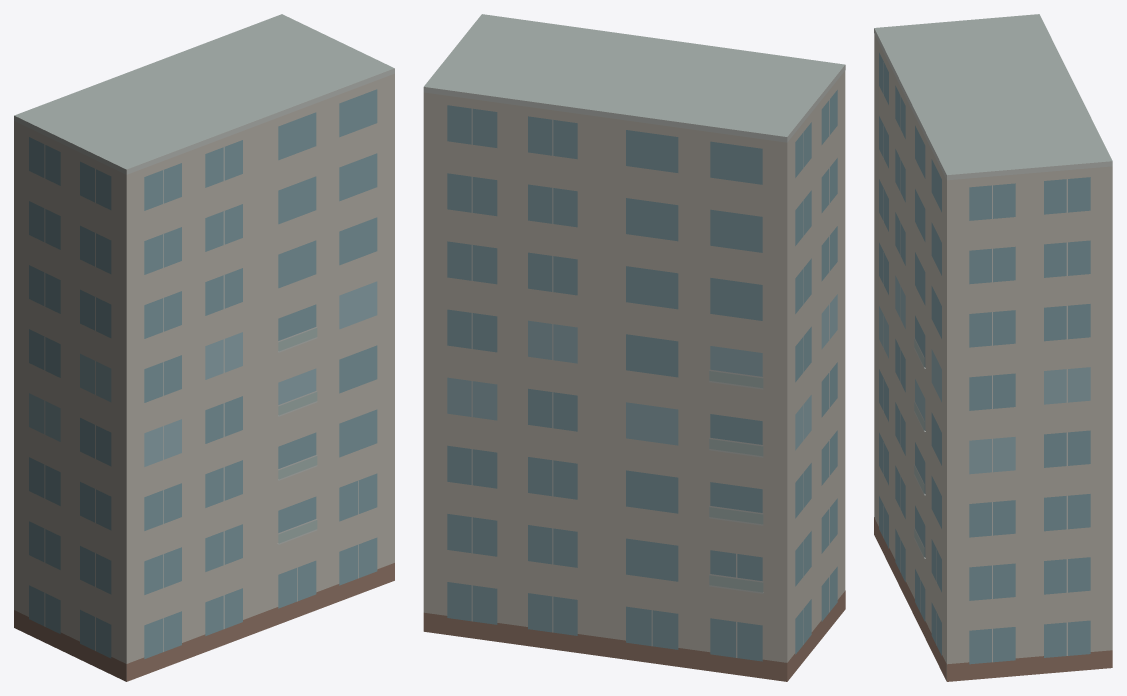
File: survey-upis-32977331.glb
The picture shows the model from 3 angles, left to right: view 1: azimuth 30°, elevation 25°; view 2: azimuth 150°, elevation 25°; view 3: azimuth 270°, elevation 25°; orthographic projection. The views are drawn at different scales.
Visible parts, largest first — view 1: survey-upis-32977331.tmp; view 2: survey-upis-32977331.tmp; view 3: survey-upis-32977331.tmp.
Part boxes in pixels (x1,y1,x2,y2): survey-upis-32977331.tmp: (14,14,394,681); survey-upis-32977331.tmp: (423,14,845,681); survey-upis-32977331.tmp: (874,14,1112,681).
Bounding box in the file's own units: 16.25 × 23.8 × 10.17.
